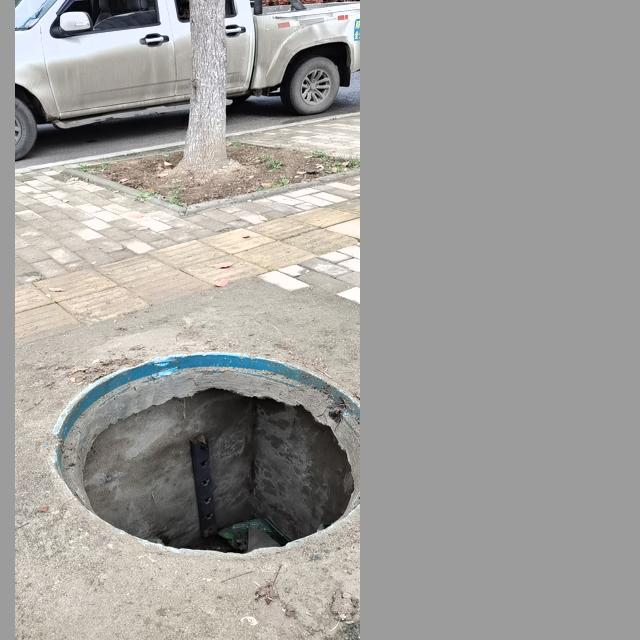lose: (50, 353, 360, 558)
